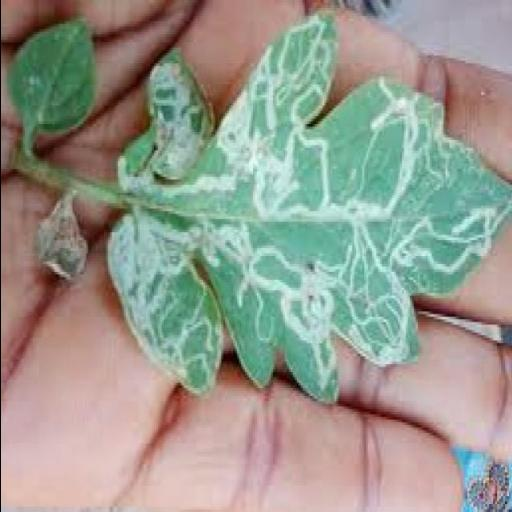Leaf Miner: (107, 0, 512, 401)
